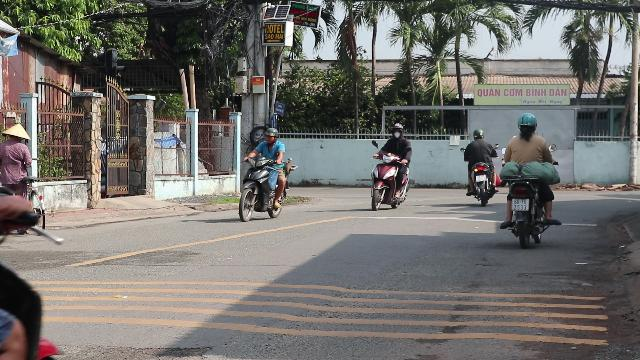helmet: (516, 113, 538, 135), (264, 127, 278, 143)
licenseplate: (512, 198, 528, 209)
motorcyclist: (496, 112, 560, 248), (236, 126, 290, 222)
